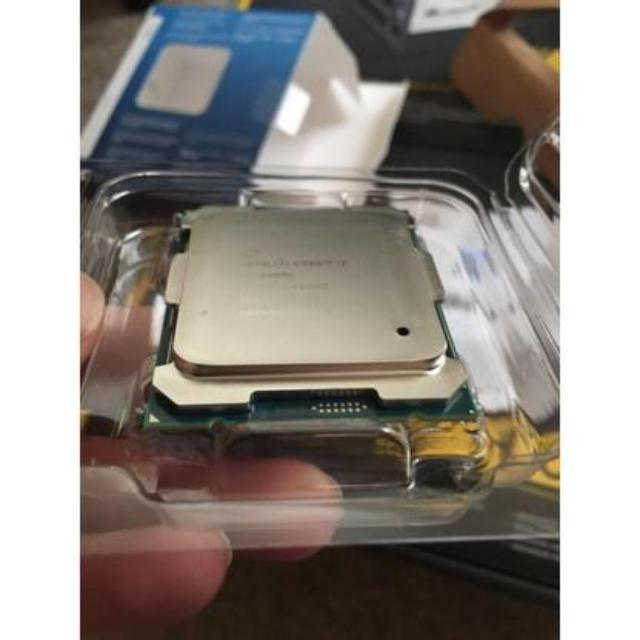CPU: (157, 200, 466, 426)
